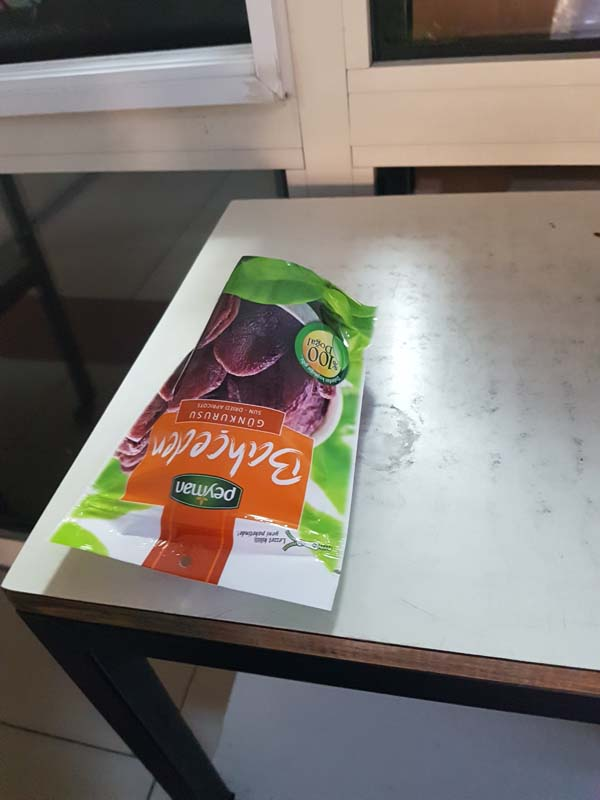bahcedengunkurusu: (51, 248, 383, 612)
